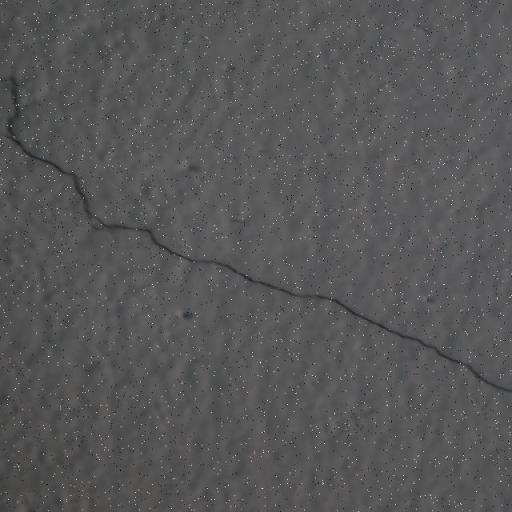minor crack: (2, 71, 507, 400), (7, 94, 116, 222), (403, 324, 506, 392), (320, 296, 433, 351), (5, 72, 30, 146)
moderate crack: (98, 212, 207, 265)
severe crack: (70, 173, 93, 206)
